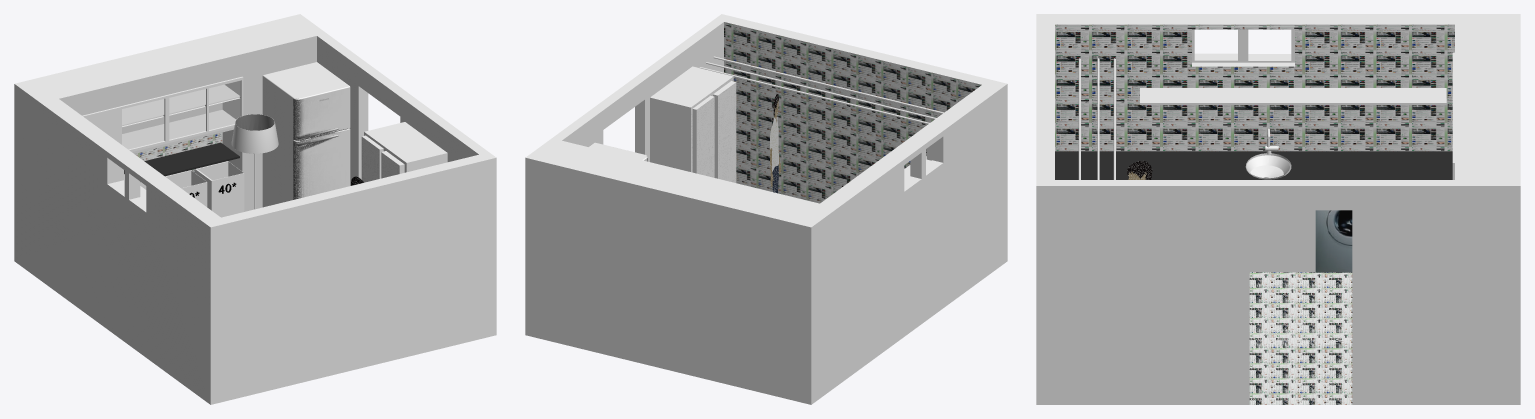
Rendered from tvattstuga.dae.
3 views of the same model, side by side, from view 1: azimuth 30°, elevation 25°; view 2: azimuth 150°, elevation 25°; view 3: azimuth 270°, elevation 25° (orthographic). The views are drawn at different scales.
Parts seen in each view (by area): view 1: SketchUp (×12), REFRIGERADOR_Eletrolux (×4), Tvättlåda (×2), group_11 (×2); view 2: SketchUp (×8); view 3: SketchUp (×8), Washing_machine__Electrolux__EW1080F__600x850x590.skp, Diskho.
Part boxes in pixels (x1,y1,x2,y2): SketchUp (×12): (14,14,496,404); REFRIGERADOR_Eletrolux (×4): (262,62,350,207); Tvättlåda (×2): (195,161,244,217); group_11 (×2): (231,114,278,153); SketchUp (×8): (525,14,1007,404); SketchUp (×8): (1036,14,1520,404); Washing_machine__Electrolux__EW1080F__600x850x590.skp: (1315,210,1352,272); Diskho: (1246,155,1289,179).
Size of the model in its own units: 137 by 163 by 83.86.
